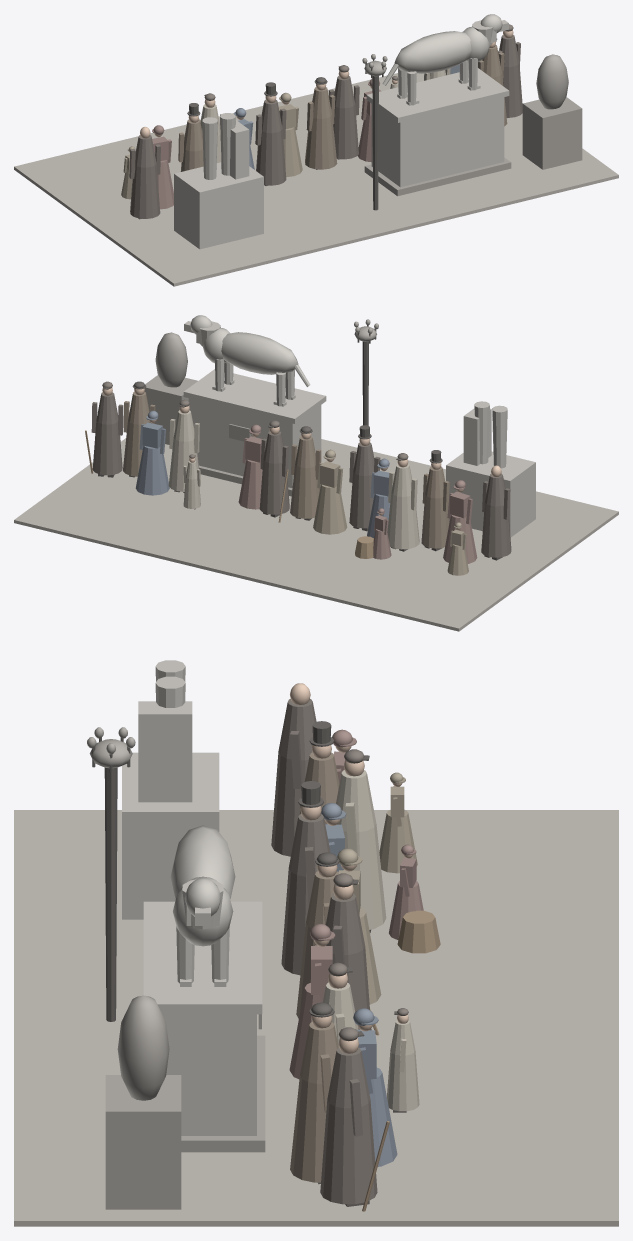
File: scan-fig44-agricultural-workers-sculpture-muse.glb
3 renders of one model, top to bottom at view 1: azimuth 30°, elevation 25°; view 2: azimuth 150°, elevation 25°; view 3: azimuth 270°, elevation 25°, orthographic. The views are drawn at different scales.
Parts seen in each view (by area): view 1: Floor, DogPlinth, LegsPlinth, FarPlinth, DogPlinthCap, DogBody, FarStatue, body.004, body, body.003, DogPlinthBase, body.005 (+17 smaller); view 2: Floor, DogPlinth, LegsPlinth, DogPlinthCap, DogBody, FarPlinth, body.002, FarStatue, body.009, body, body.004, skirt.006 (+28 smaller); view 3: Floor, DogPlinth, DogPlinthCap, FarPlinth, LegsPlinth, StatueDrape, body.009, FarStatue, LampPost, DogBody, body.008, DogPlinthBase (+26 smaller).
Boxes of the visible parts, x1,y1,x2,y2 form: Floor: [14, 73, 618, 286]; DogPlinth: [371, 97, 504, 187]; LegsPlinth: [174, 162, 263, 249]; FarPlinth: [522, 97, 582, 169]; DogPlinthCap: [366, 68, 509, 122]; DogBody: [394, 31, 471, 73]; FarStatue: [536, 54, 568, 109]; body.004: [305, 115, 337, 169]; body: [130, 164, 160, 218]; body.003: [256, 129, 286, 185]; DogPlinthBase: [364, 157, 511, 196]; body.005: [333, 104, 358, 159]; Floor: [14, 438, 618, 631]; DogPlinth: [188, 398, 321, 488]; LegsPlinth: [446, 451, 535, 537]; DogPlinthCap: [183, 369, 326, 423]; DogBody: [221, 332, 298, 374]; FarPlinth: [144, 375, 197, 444]; body.002: [387, 493, 419, 549]; FarStatue: [155, 332, 187, 387]; body.009: [92, 421, 122, 475]; body: [481, 503, 511, 557]; body.004: [290, 464, 319, 518]; skirt.006: [135, 445, 169, 495]; Floor: [14, 810, 618, 1226]; DogPlinth: [162, 1014, 256, 1135]; DogPlinthCap: [143, 901, 262, 1014]; FarPlinth: [105, 1075, 181, 1209]; LegsPlinth: [122, 752, 219, 919]; StatueDrape: [138, 701, 192, 802]; body.009: [320, 1100, 377, 1204]; FarStatue: [117, 995, 169, 1100]; LampPost: [104, 767, 117, 1021]; DogBody: [170, 825, 235, 898]; body.008: [290, 1075, 326, 1182]; DogPlinthBase: [181, 1035, 265, 1152].
Size of the model in its own units: 9 by 2.97 by 5.6.
